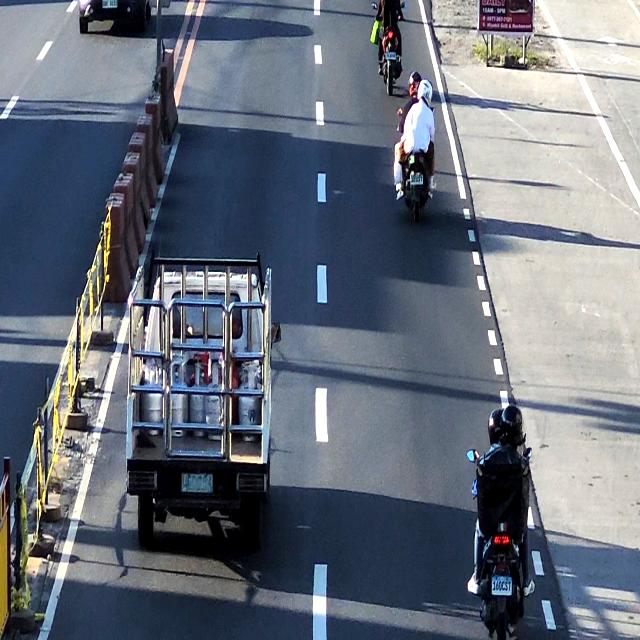License-Plate: (178, 469, 214, 499), (491, 573, 513, 599), (410, 171, 424, 187)
Motorcycle: (474, 409, 536, 640), (396, 72, 434, 225), (378, 0, 403, 91)
Truck: (127, 251, 276, 558)
